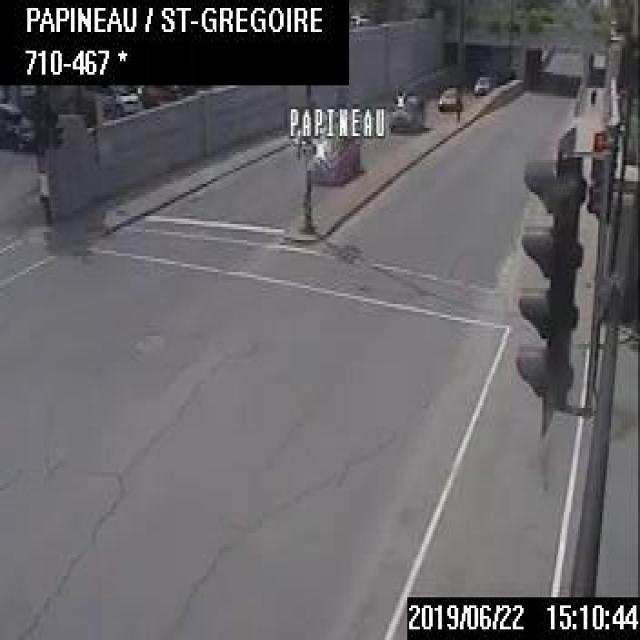vehicle: (309, 134, 360, 182), (0, 103, 35, 153), (389, 90, 427, 130), (112, 82, 144, 112), (471, 72, 493, 93), (436, 85, 456, 107)
